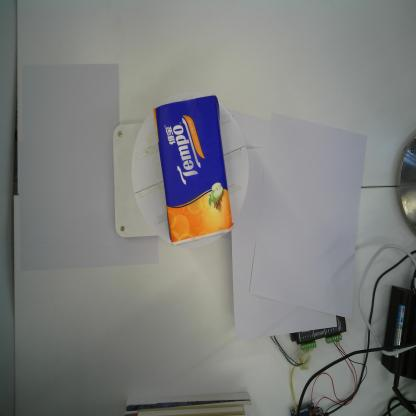Tissue: (152, 94, 235, 248)
